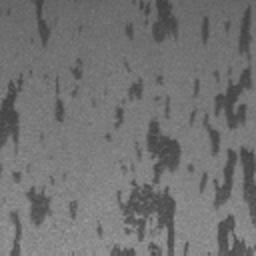Red iron sheet: (96, 4, 256, 256), (9, 170, 78, 256), (123, 0, 179, 45), (0, 73, 26, 150), (54, 58, 84, 122), (29, 0, 51, 46)
